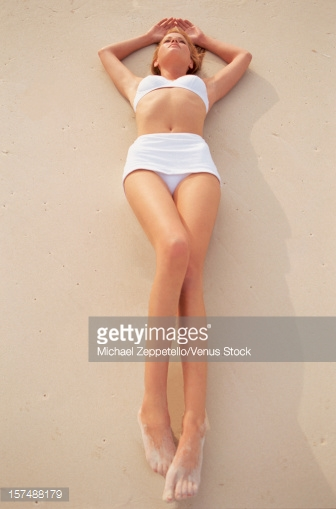deitado: (93, 0, 243, 336)
